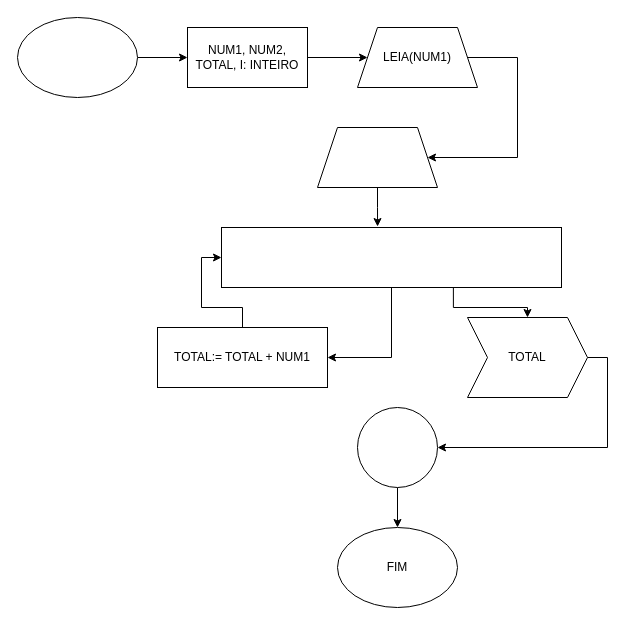
Some shapes in this 633 by 625 pixel diagram are drawn without their labels. Each missing label, with the box of its shape:
INICIO: (16, 16, 138, 98)
LEIA(NUM2): (316, 126, 438, 188)
PARA I:= 1 ATE NUM2 FACA: (220, 226, 562, 288)
